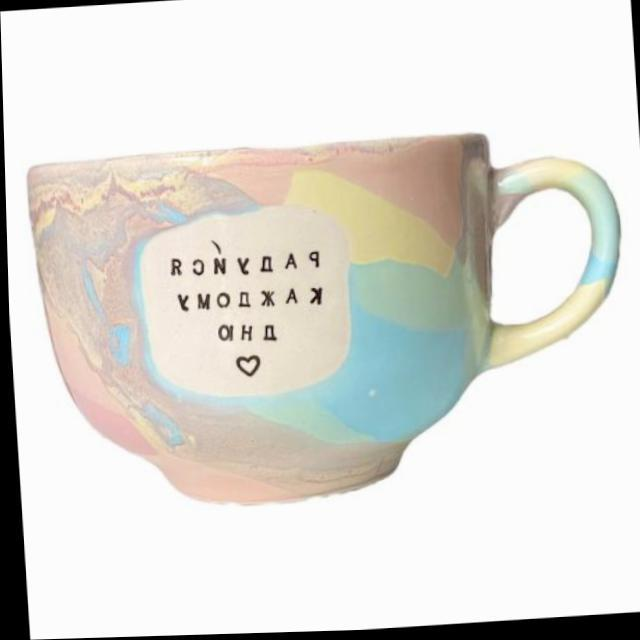cup: (21, 122, 637, 522)
